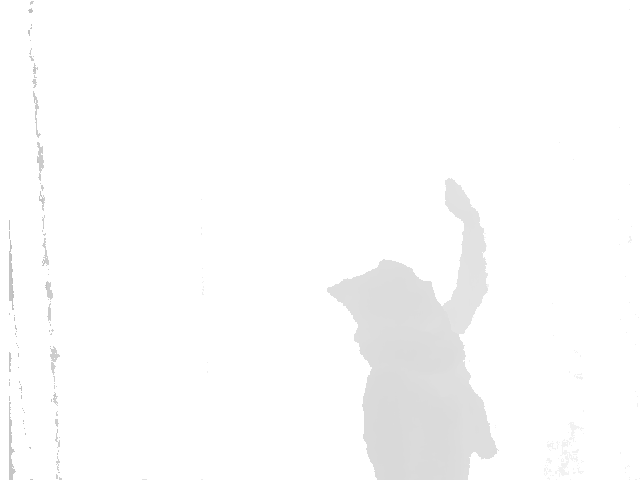hand: (442, 176, 478, 219)
head: (327, 256, 445, 342)
person: (326, 176, 499, 479)
